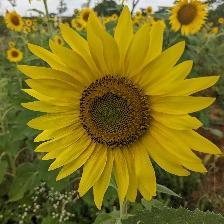sunflower: (25, 28, 211, 198)
